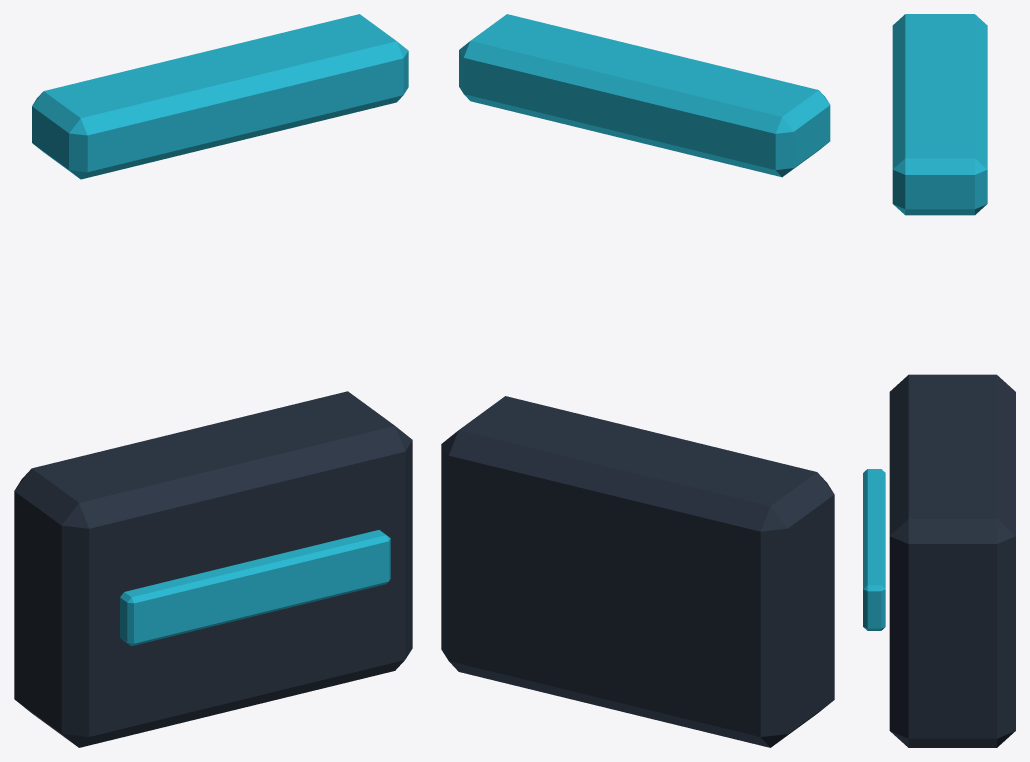
Rendered from lab_bot.glb.
3 renders of one model, left to right at view 1: azimuth 30°, elevation 25°; view 2: azimuth 150°, elevation 25°; view 3: azimuth 270°, elevation 25°, orthographic. The views are drawn at different scales.
Visible parts, largest first — view 1: lab_bot_torso, lab_bot_head; view 2: lab_bot_torso, lab_bot_head; view 3: lab_bot_torso, lab_bot_head.
Boxes of the visible parts, x1=… form: lab_bot_torso: x1=14, y1=391, x2=412, y2=747; lab_bot_head: x1=32, y1=14, x2=408, y2=179; lab_bot_torso: x1=441, y1=396, x2=834, y2=747; lab_bot_head: x1=459, y1=14, x2=830, y2=177; lab_bot_torso: x1=863, y1=374, x2=1015, y2=747; lab_bot_head: x1=892, y1=14, x2=987, y2=215.
Bounding box in the file's own units: 0.3 × 0.515 × 0.121.
